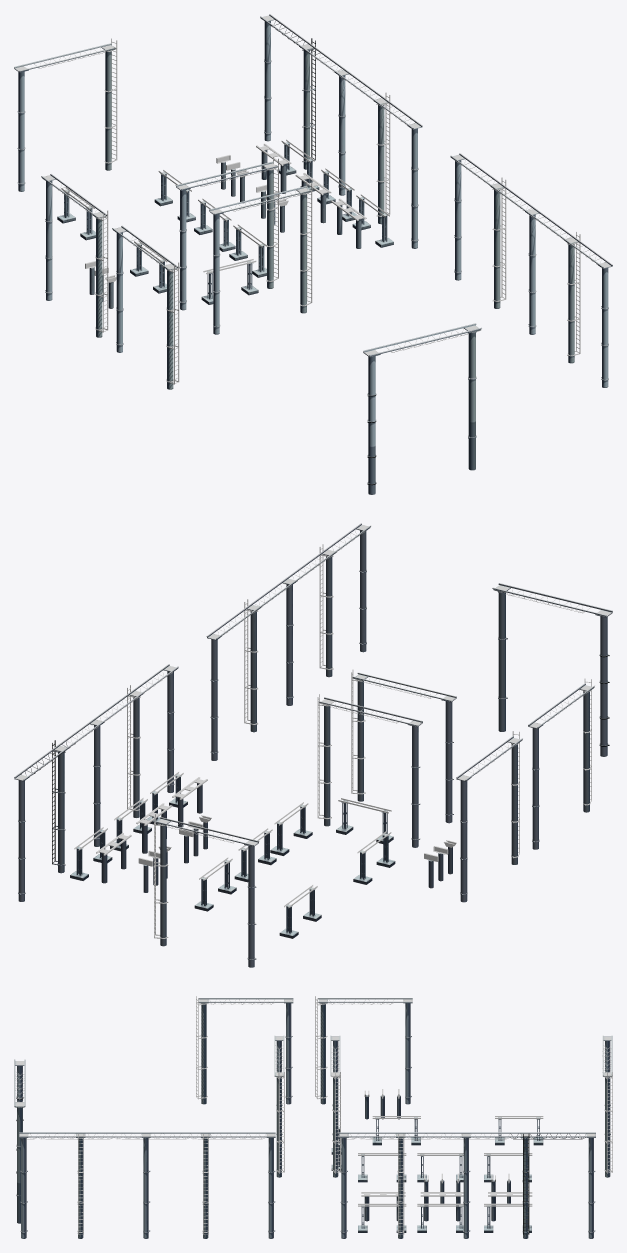
The picture shows the model from 3 angles, top to bottom: view 1: azimuth 30°, elevation 25°; view 2: azimuth 150°, elevation 25°; view 3: azimuth 270°, elevation 25°; orthographic projection. The views are drawn at different scales.
Visible parts, largest first — view 1: 18-1电线杆, 18-材质.17 (×2); view 2: 18-1电线杆, 18-材质.17 (×2); view 3: 18-1电线杆, 18-材质.17 (×2).
Boxes of the visible parts, box(x1,y1,x2,y2) form: 18-1电线杆: box(14, 14, 612, 494); 18-材质.17 (×2): box(34, 38, 605, 384); 18-1电线杆: box(14, 523, 612, 967); 18-材质.17 (×2): box(67, 527, 594, 938); 18-1电线杆: box(14, 998, 612, 1238); 18-材质.17 (×2): box(14, 996, 612, 1234).
Size of the model in its own units: 16.18 by 7.92 by 29.27.
Materials: 3 (1 with a texture image).
